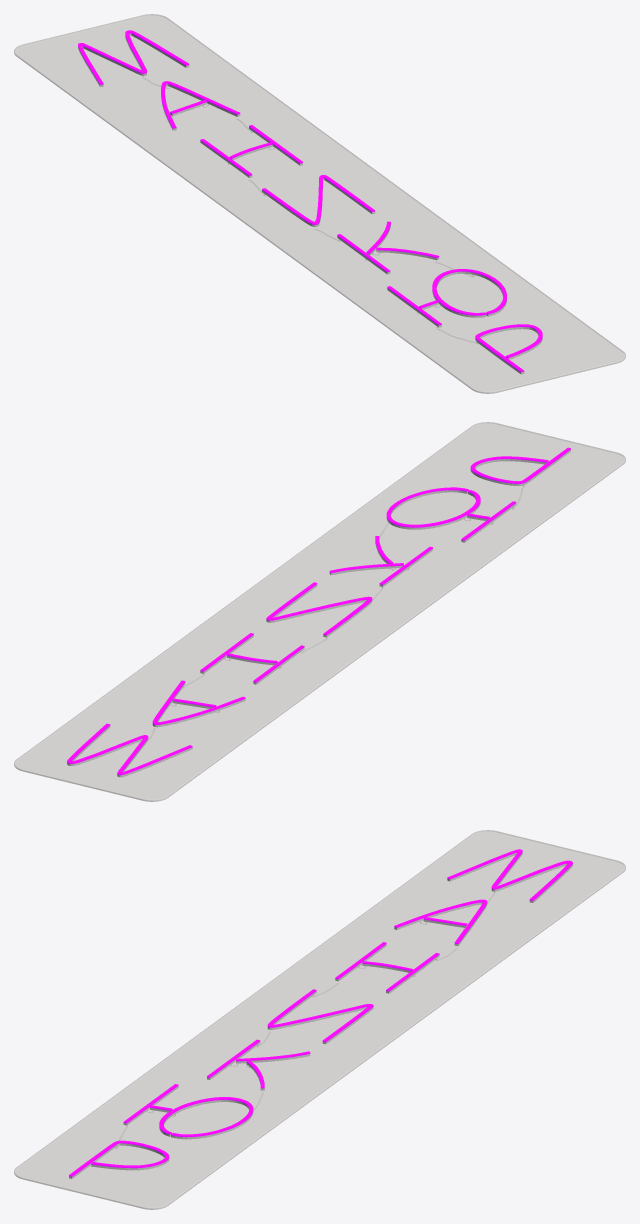
The model's file is manicure.glb.
The picture shows the model from 3 angles, top to bottom: view 1: azimuth 30°, elevation 25°; view 2: azimuth 150°, elevation 25°; view 3: azimuth 330°, elevation 25°; orthographic projection.
Parts seen in each view (by area): view 1: Plane.051, Plane.052; view 2: Plane.051, Plane.052; view 3: Plane.051, Plane.052.
Part boxes in pixels (<box>): Plane.051: <box>14,14,625,393</box>; Plane.052: <box>78,30,542,374</box>; Plane.051: <box>14,422,625,801</box>; Plane.052: <box>67,447,570,777</box>; Plane.051: <box>14,830,625,1209</box>; Plane.052: <box>69,849,572,1178</box>.
Size of the model in its own units: 1.42 by 0.0678 by 7.68.
